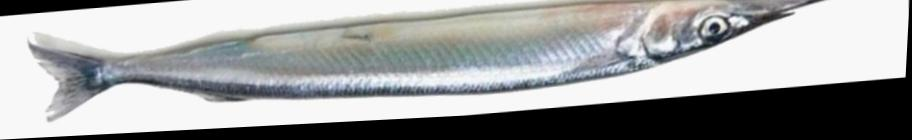fish: (28, 0, 863, 122)
